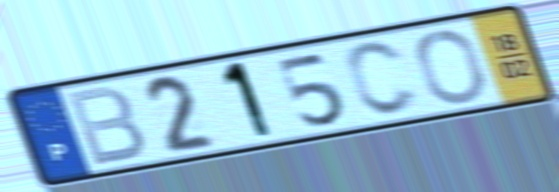1: (216, 57, 278, 143)
2: (143, 73, 219, 155)
5: (272, 48, 348, 130)
B: (62, 83, 149, 170)
C: (341, 38, 424, 119)
O: (412, 27, 490, 106)
